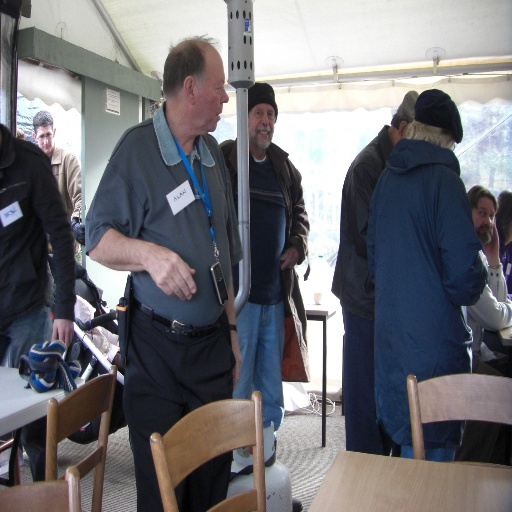hand: (129, 246, 195, 298), (50, 319, 74, 350), (483, 220, 500, 257), (279, 247, 301, 271), (233, 345, 244, 391)
